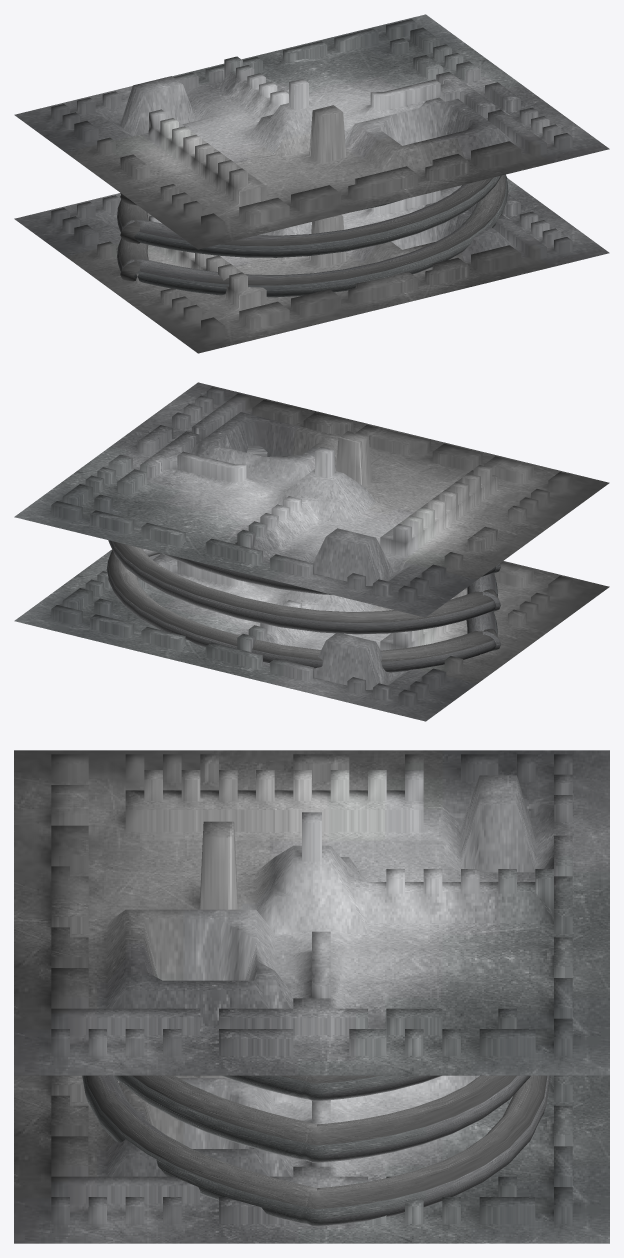
Rendered from pieza11.fbx.
3 views of the same model, one above another, from view 1: azimuth 30°, elevation 25°; view 2: azimuth 150°, elevation 25°; view 3: azimuth 270°, elevation 25° (orthographic). The views are drawn at different scales.
Parts seen in each view (by area): view 1: BezierCircle.017; view 2: BezierCircle.017; view 3: BezierCircle.017.
Boxes of the visible parts, x1,y1,x2,y2 form: BezierCircle.017: (14,14,609,353); BezierCircle.017: (14,382,609,721); BezierCircle.017: (14,750,609,1243).
Size of the model in its own units: 258 by 108 by 200.
5 materials, 5 textured.
